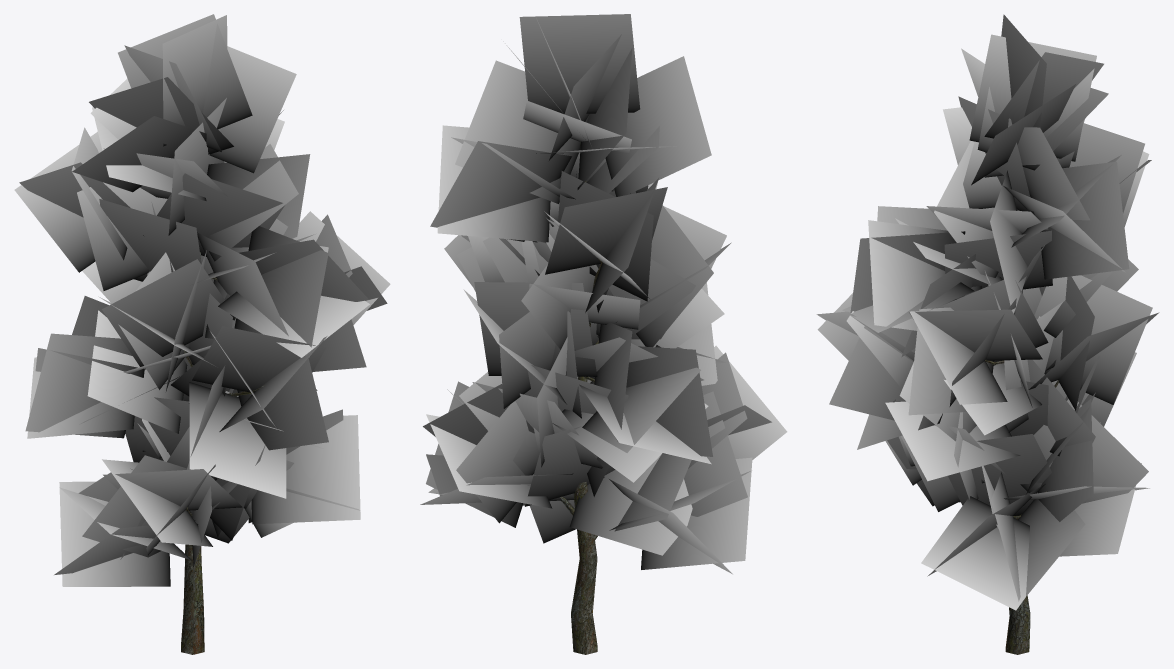
Rendered from tree8.fbx.
The picture shows the model from 3 angles, left to right: view 1: azimuth 30°, elevation 25°; view 2: azimuth 150°, elevation 25°; view 3: azimuth 270°, elevation 25°; orthographic projection. The views are drawn at different scales.
Parts seen in each view (by area): view 1: tree8_leafs, tree8_leafs_flip, tree8_trunk; view 2: tree8_leafs, tree8_leafs_flip, tree8_trunk; view 3: tree8_leafs, tree8_leafs_flip, tree8_trunk.
Part boxes in pixels (x1,y1,x2,y2): tree8_leafs: (14,14,390,586); tree8_leafs_flip: (18,16,385,586); tree8_trunk: (174,252,264,654); tree8_leafs: (420,14,787,574); tree8_leafs_flip: (423,15,778,572); tree8_trunk: (560,141,602,654); tree8_leafs: (816,14,1159,610); tree8_leafs_flip: (818,21,1153,600); tree8_trunk: (985,360,1059,654).
Bounding box in the file's own units: 9.98 × 18.86 × 9.51.
